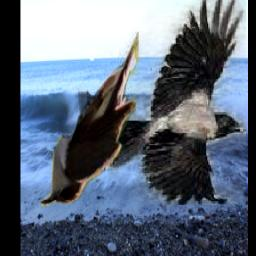Crow: (108, 0, 246, 206)
Cuckoo: (41, 27, 140, 208)
